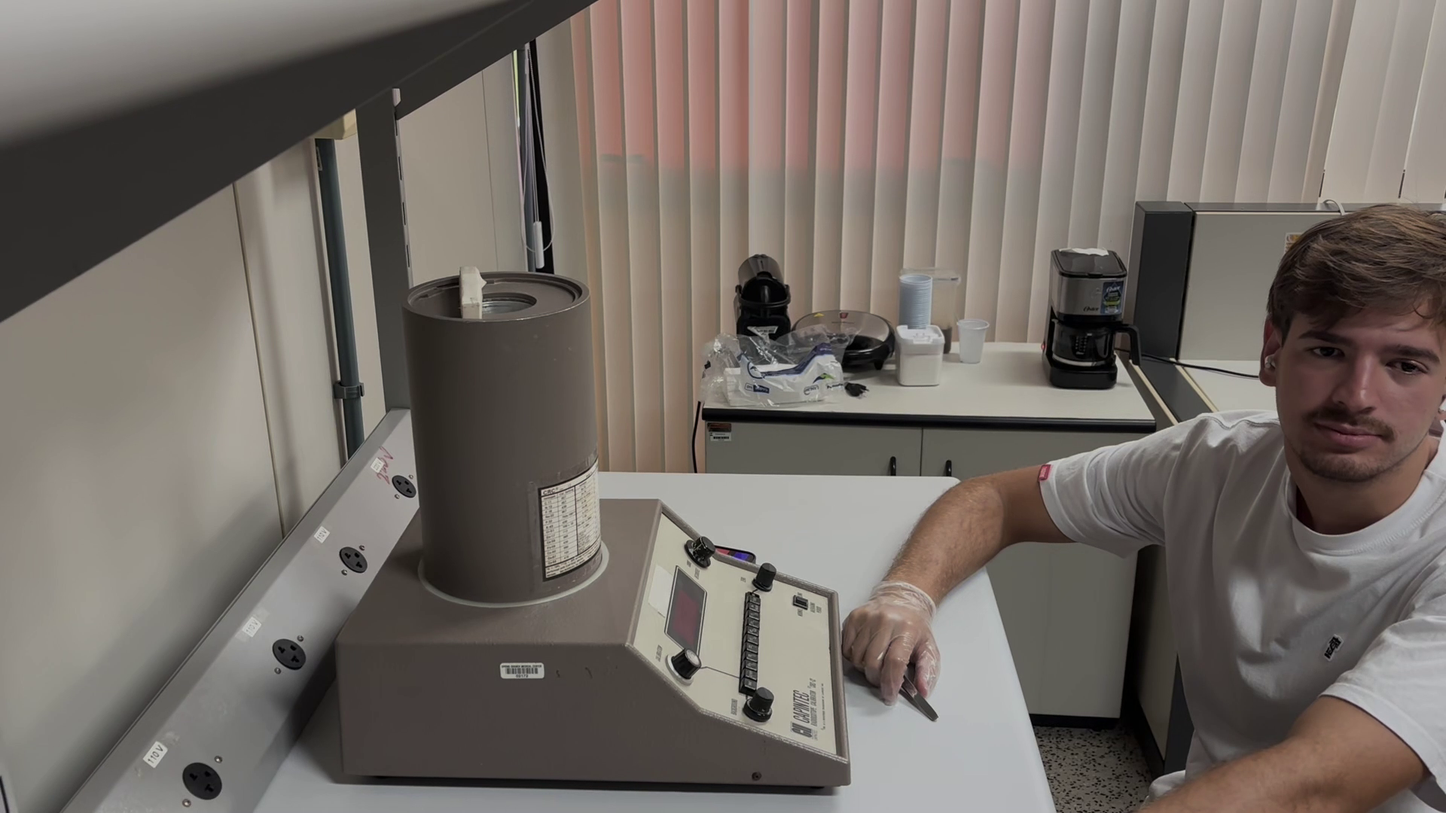Ativimetro: (398, 267, 609, 606)
Com_Luva: (841, 582, 944, 708)
